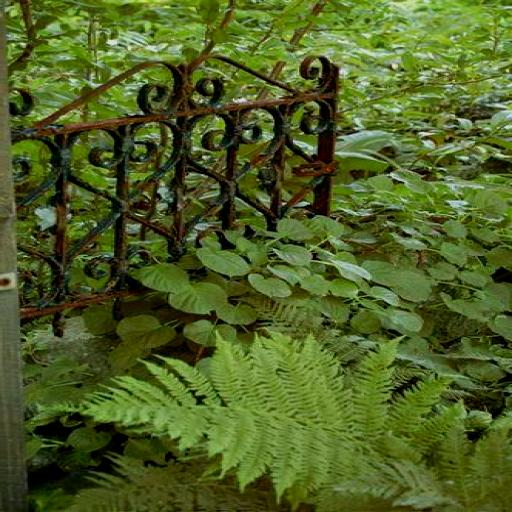segmentation: (26, 69, 336, 138), (313, 56, 338, 215), (239, 140, 279, 179), (56, 173, 68, 301), (54, 312, 63, 335)
